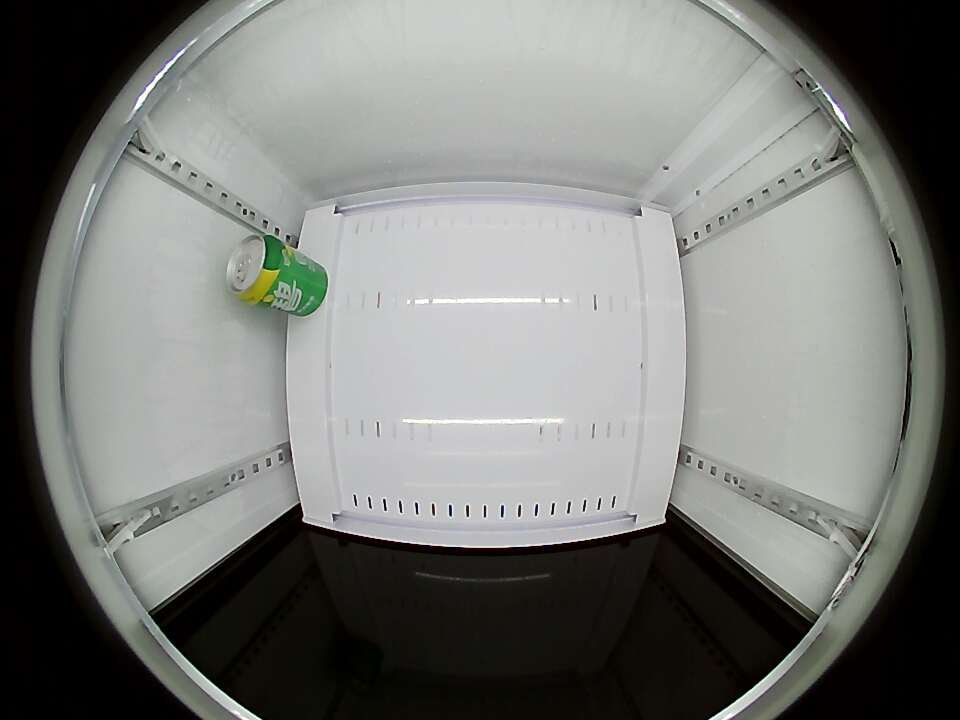xuebi2: (226, 234, 288, 305)
